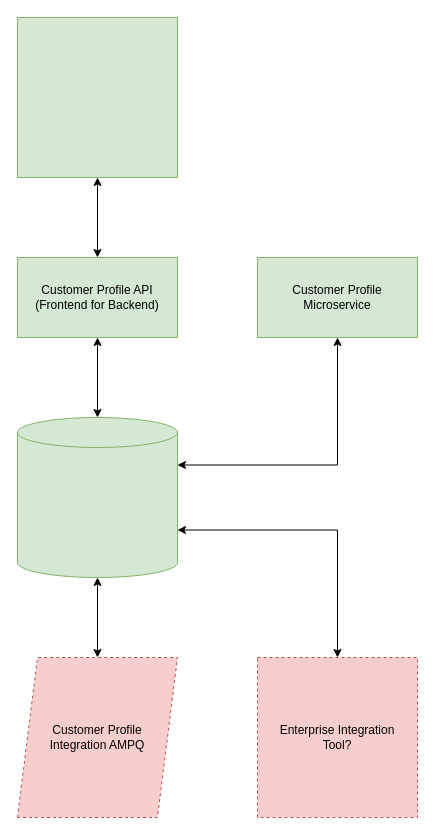
The diagram is 435 pixels wide and 835 high, and some of its shapes have lost their labels. Here are the shapes that lost their labels. From the top down, the box of each, then its label:
(16, 16, 178, 178): Customer Profile UI
(16, 416, 178, 578): Customer Profile Data Store
